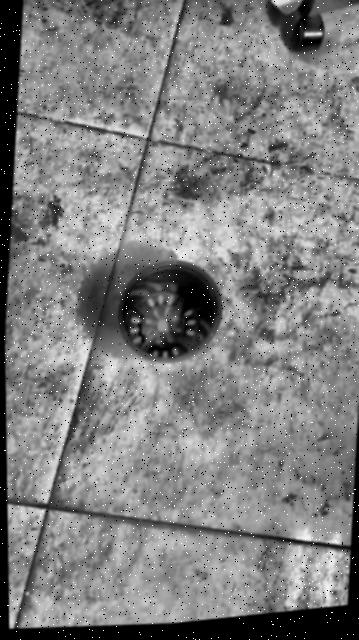pot: (111, 251, 224, 371)
